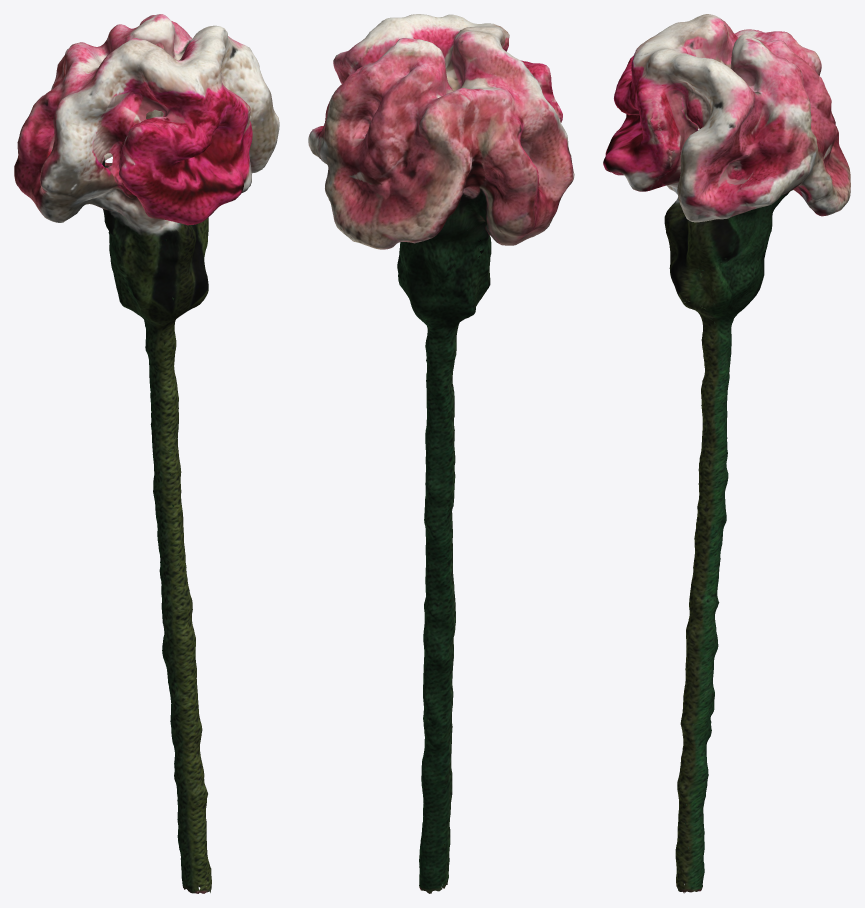
The model's file is carnation.glb.
3 views of the same model, side by side, from view 1: azimuth 30°, elevation 25°; view 2: azimuth 150°, elevation 25°; view 3: azimuth 270°, elevation 25° (orthographic). The views are drawn at different scales.
Parts seen in each view (by area): view 1: Carnation_Petals, Carnation _Stem; view 2: Carnation_Petals, Carnation _Stem; view 3: Carnation_Petals, Carnation _Stem.
Boxes of the visible parts, x1,y1,x2,y2 form: Carnation_Petals: (14, 14, 279, 572); Carnation _Stem: (102, 160, 211, 893); Carnation_Petals: (308, 14, 574, 697); Carnation _Stem: (397, 189, 491, 893); Carnation_Petals: (603, 14, 850, 885); Carnation _Stem: (664, 190, 791, 893).
Bounding box in the file's own units: 0.5654 × 2 × 0.5306.
1 material, 1 textured.
